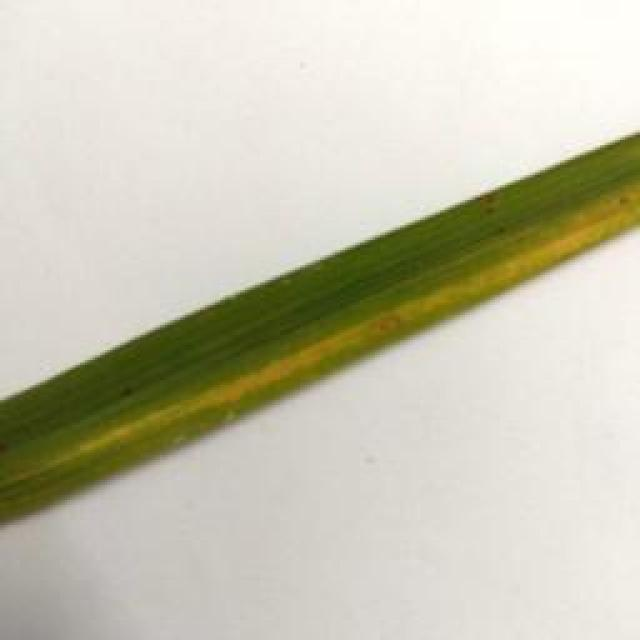Bacterial_Blight: (51, 182, 640, 473)
Brown_Spot: (467, 189, 506, 213), (0, 432, 18, 459), (493, 232, 512, 246)
